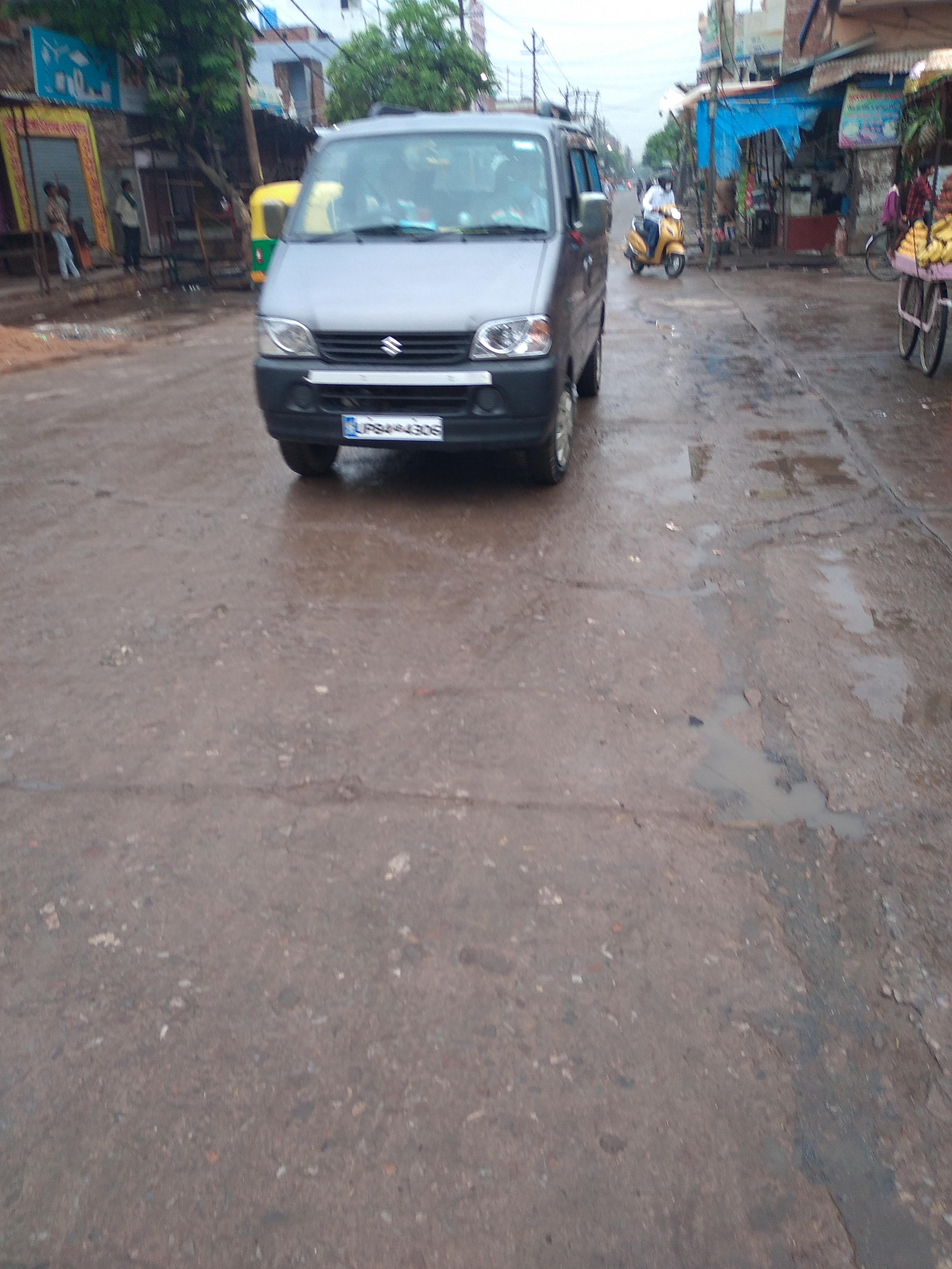Non-emergency: (227, 51, 690, 551)
